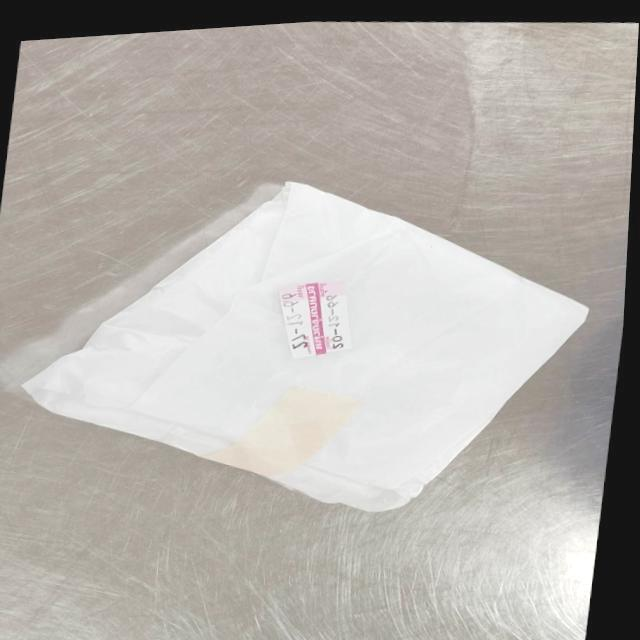General: (21, 178, 592, 514)
Sharps: (278, 279, 352, 359)
